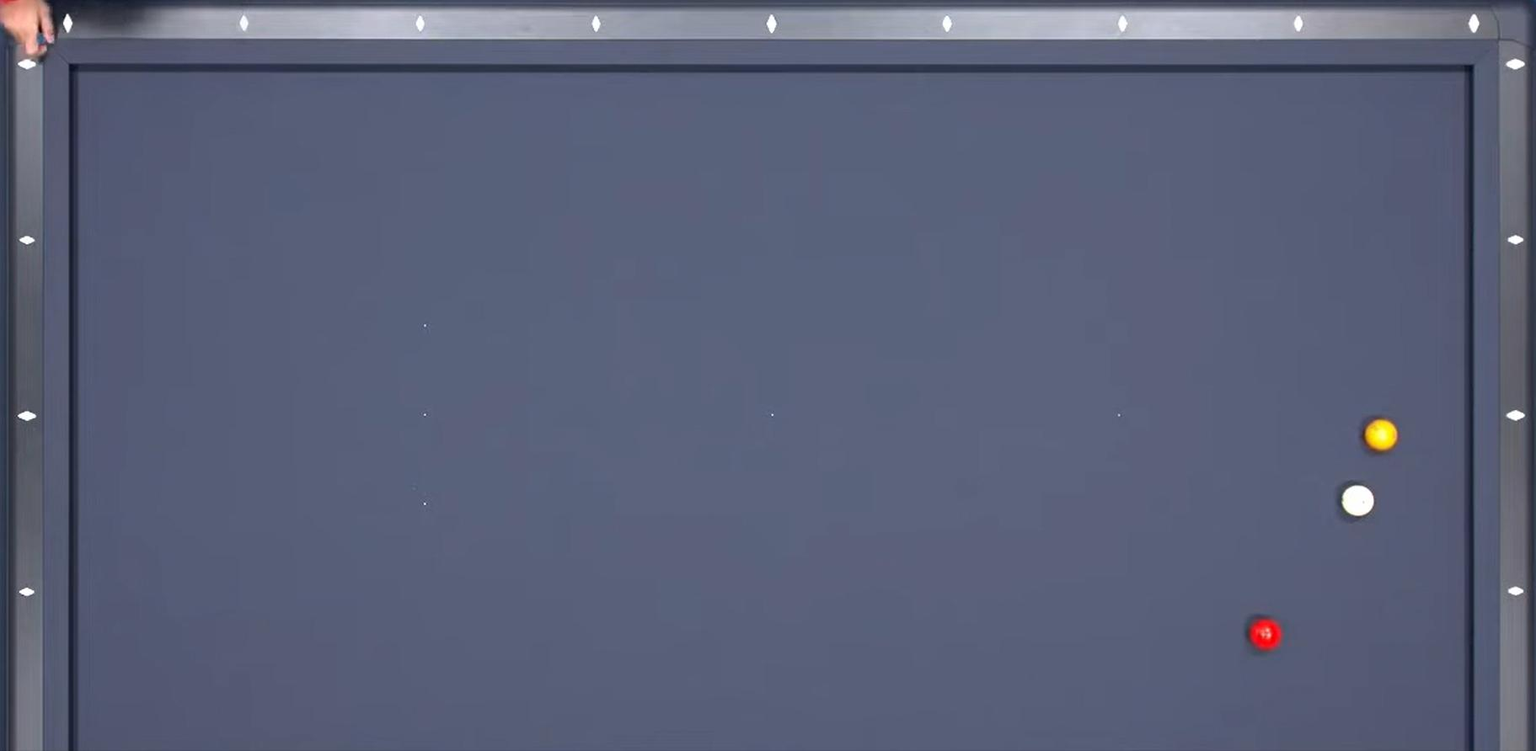red ball: (1244, 615, 1286, 656)
white ball: (1338, 483, 1377, 519)
yellow ball: (1362, 413, 1400, 458)
